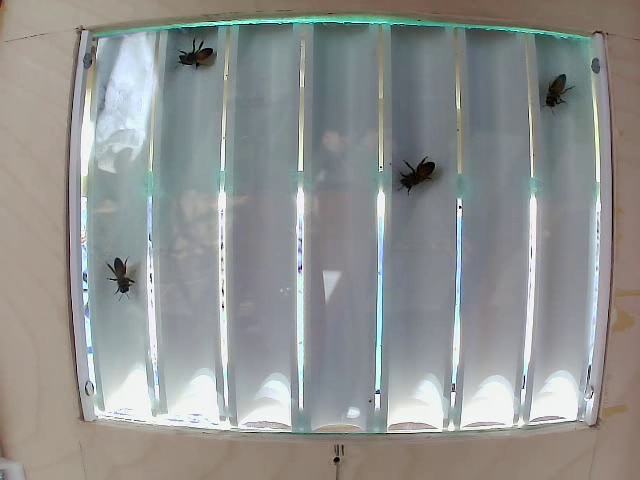bee: (536, 73, 584, 122), (92, 255, 137, 299), (392, 153, 440, 194), (171, 38, 227, 73)
